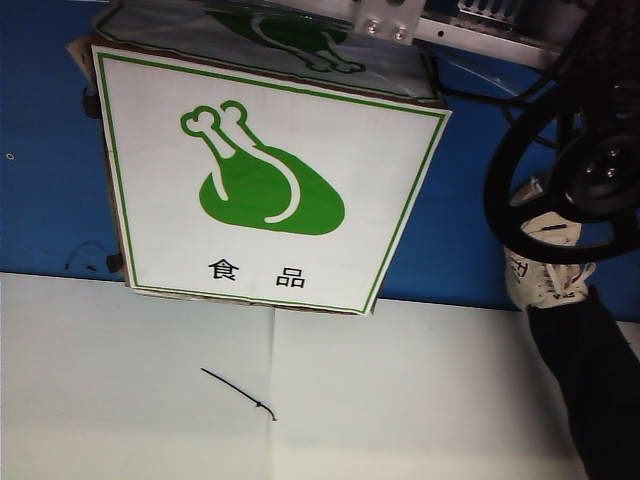Cube_food: (169, 94, 358, 301)
